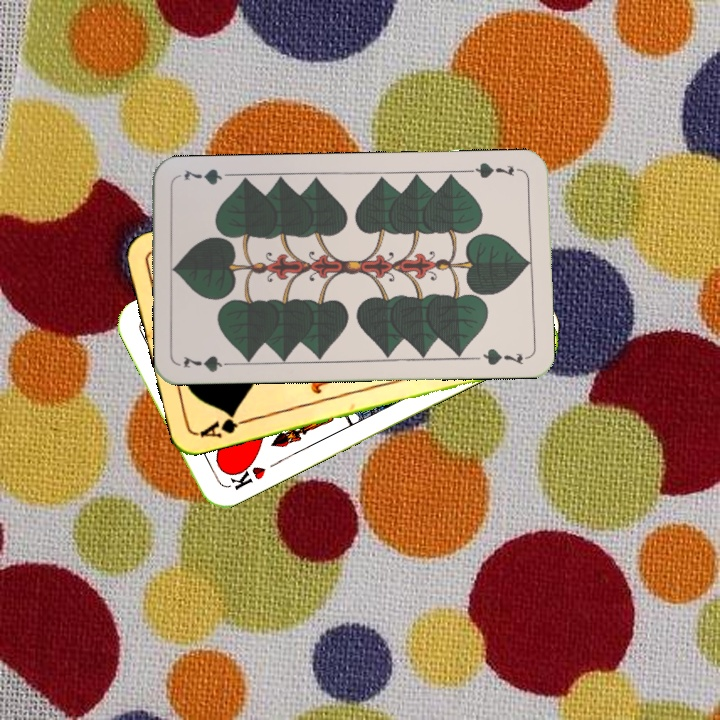G7: (179, 351, 238, 374), (465, 158, 516, 181)
GA: (195, 408, 253, 441)
HK: (223, 456, 269, 493)
